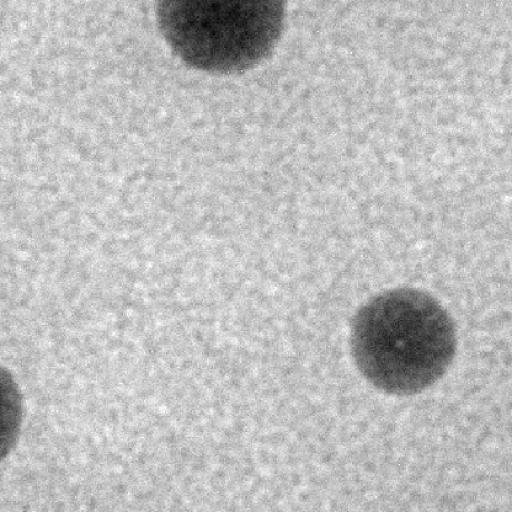Nanoparticles: (348, 284, 465, 396), (156, 0, 292, 75), (0, 361, 27, 459)
